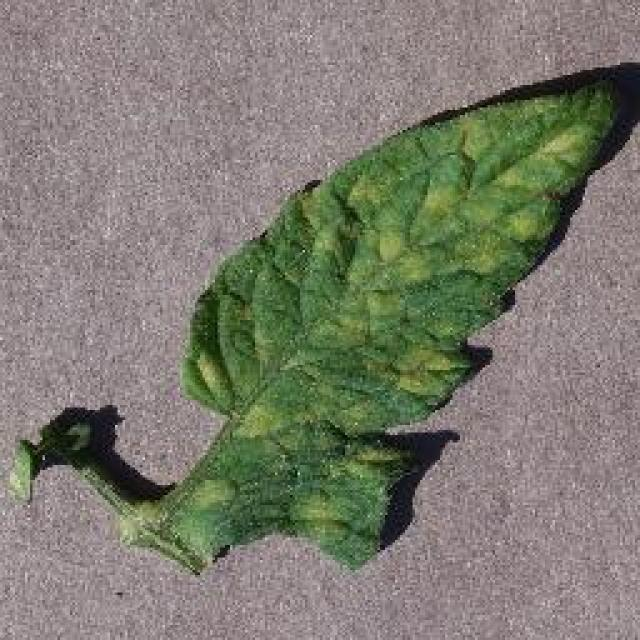Tomato mold leaf: (137, 74, 615, 574)
